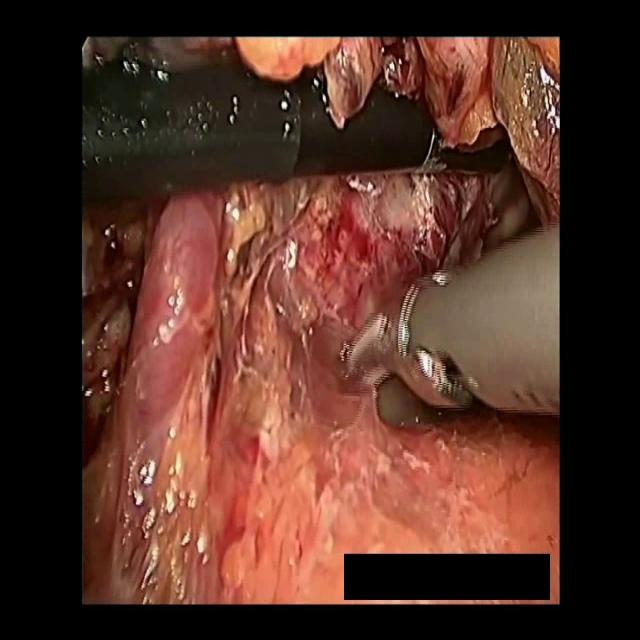surgical-area: (82, 152, 560, 606), (81, 35, 560, 154)
surgical-tool: (82, 56, 426, 199), (339, 220, 559, 420), (400, 103, 516, 175)
